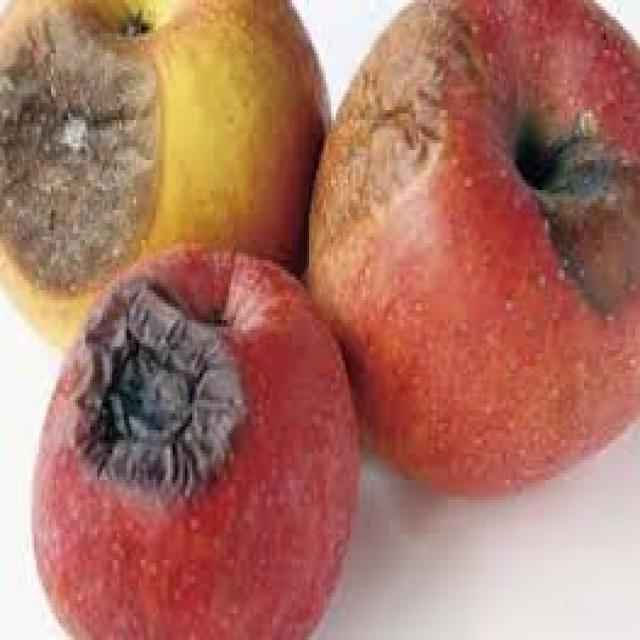organic waste: (306, 0, 638, 490), (26, 240, 358, 637), (0, 0, 326, 357)
